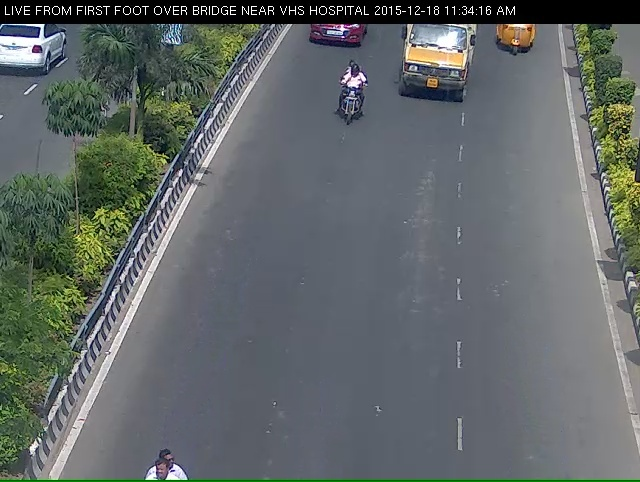Bus: (393, 21, 477, 121)
Car: (494, 23, 552, 70), (302, 18, 370, 57)
Person: (327, 73, 370, 145)
